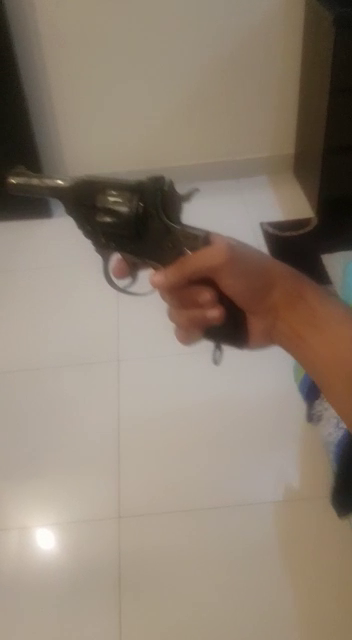handgun: (1, 146, 329, 405)
